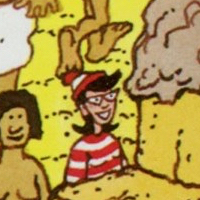wenda: (71, 67, 121, 136)
